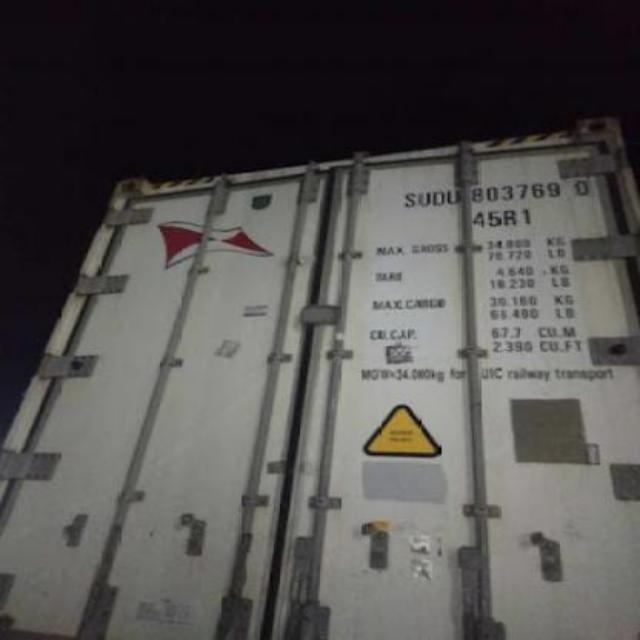0: (574, 181, 590, 197), (484, 188, 498, 200)
3: (502, 184, 514, 200)
6: (528, 180, 546, 198)
7: (514, 183, 530, 199)
8: (472, 187, 484, 203)
9: (548, 182, 562, 196)
D: (432, 190, 444, 204)
S: (402, 191, 416, 207)
U: (418, 191, 432, 207), (448, 190, 462, 204)
